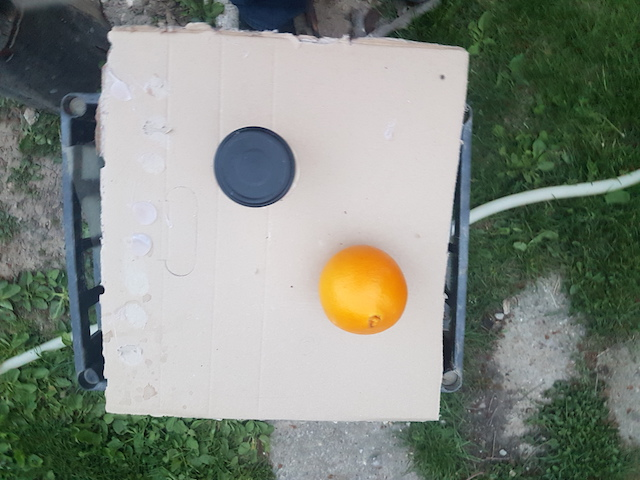orange: (319, 244, 410, 335)
recipient: (214, 124, 297, 208)
